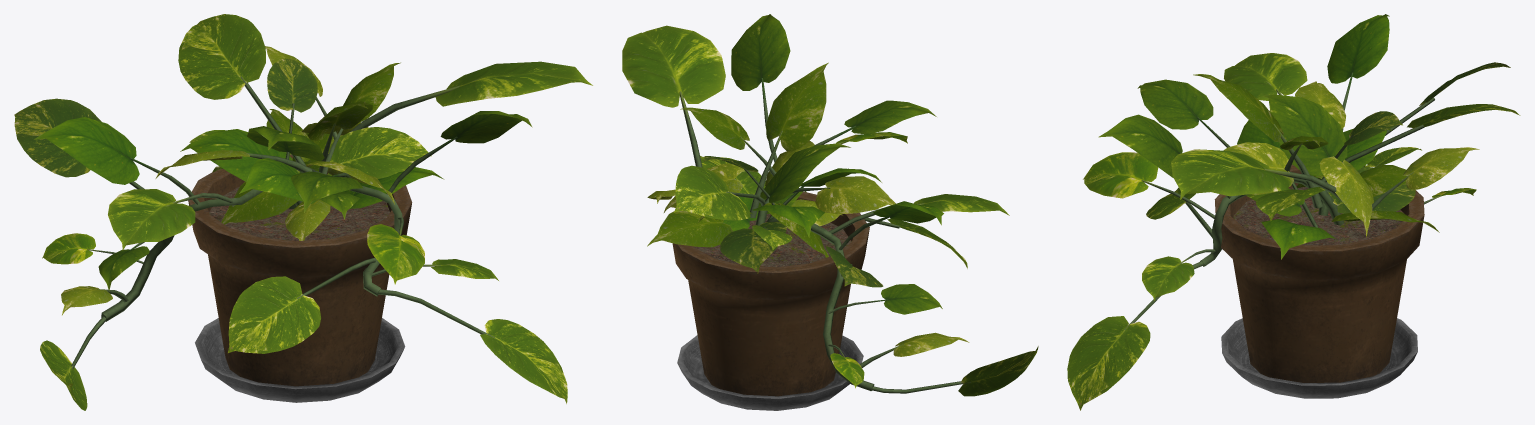
File: SM_Plant_02a.fbx
3 views of the same model, side by side, from view 1: azimuth 30°, elevation 25°; view 2: azimuth 150°, elevation 25°; view 3: azimuth 270°, elevation 25° (orthographic). The views are drawn at different scales.
Parts seen in each view (by area): view 1: SM_Plant_02a_LOD0; view 2: SM_Plant_02a_LOD0; view 3: SM_Plant_02a_LOD0.
Boxes of the visible parts, <box> form: SM_Plant_02a_LOD0: <box>14,14,592,410</box>; SM_Plant_02a_LOD0: <box>622,14,1038,410</box>; SM_Plant_02a_LOD0: <box>1067,14,1520,410</box>.
Bounding box in the file's own units: 60.21 × 50.72 × 35.9.
